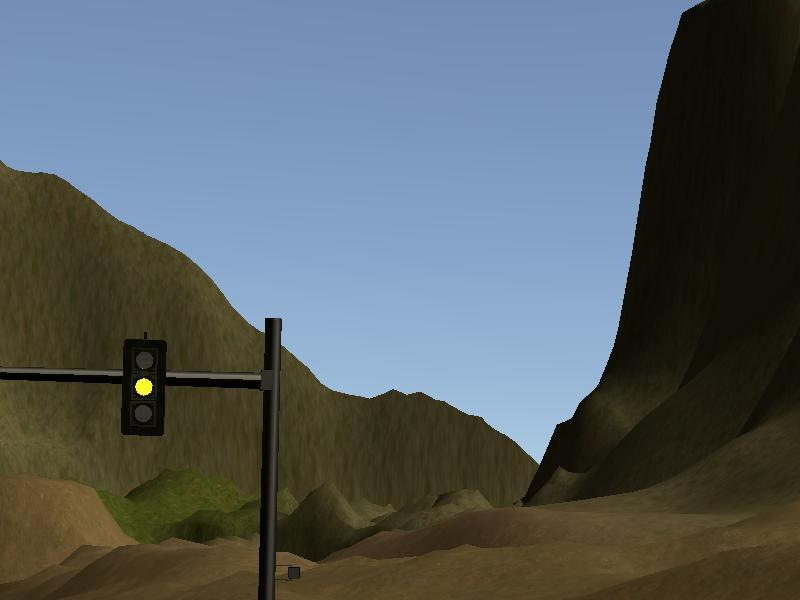Yellow: (121, 339, 167, 436)
